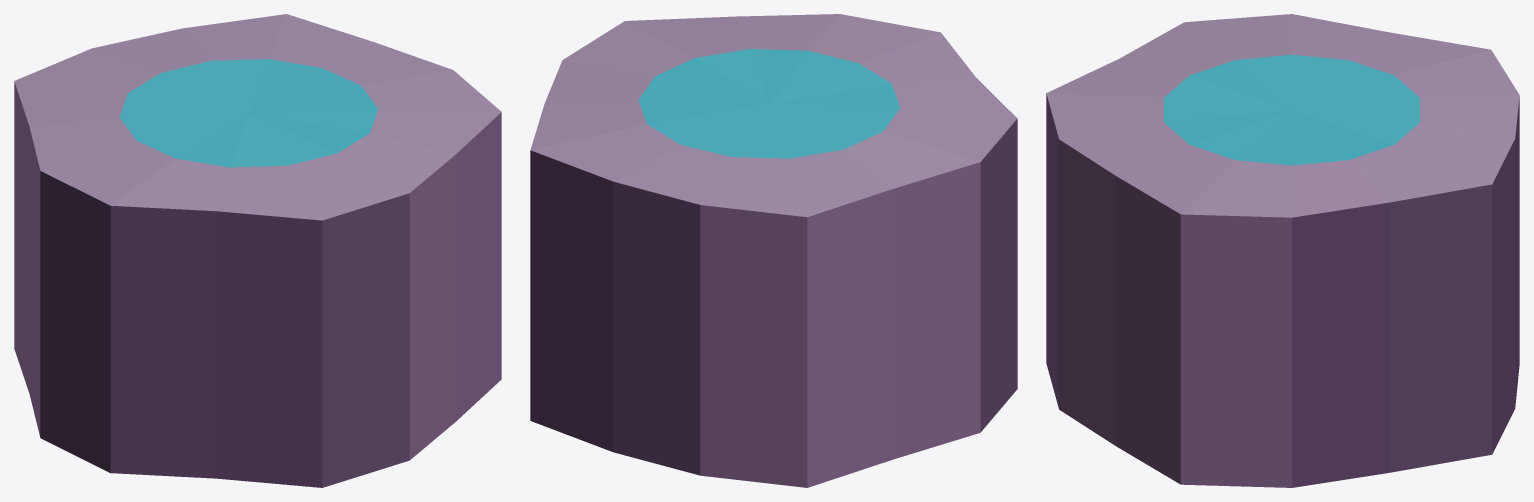
The model's file is Enchanted_Stump.glb.
3 views of the same model, side by side, from view 1: azimuth 30°, elevation 25°; view 2: azimuth 150°, elevation 25°; view 3: azimuth 270°, elevation 25° (orthographic).
Visible parts, largest first — view 1: EnchStump; view 2: EnchStump; view 3: EnchStump.
Boxes of the visible parts, box(x1,y1,x2,y2) form: EnchStump: box(14, 14, 501, 487); EnchStump: box(530, 14, 1017, 487); EnchStump: box(1046, 14, 1519, 487).
Size of the model in its own units: 0.3233 by 0.21 by 0.3173.
